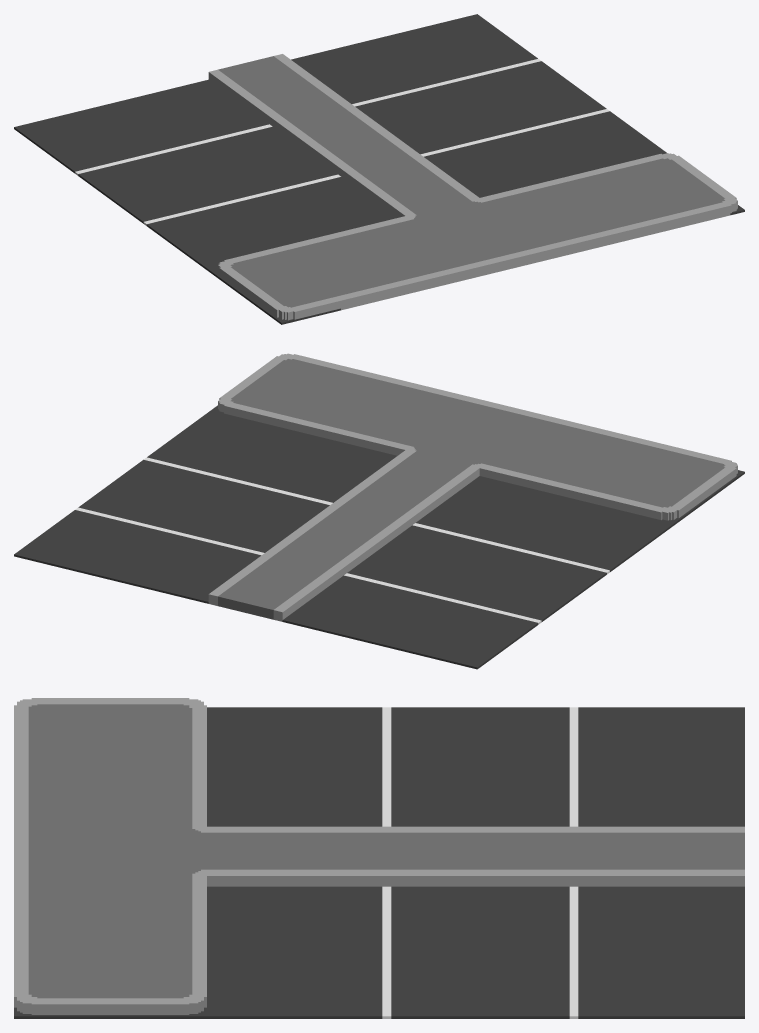
The model's file is parking_edge.vox.obj.
3 renders of one model, top to bottom at view 1: azimuth 30°, elevation 25°; view 2: azimuth 150°, elevation 25°; view 3: azimuth 270°, elevation 25°, orthographic. The views are drawn at different scales.
Bounding box in the file's own units: 25 × 0.5 × 25.
Materials: 1 (1 with a texture image).
